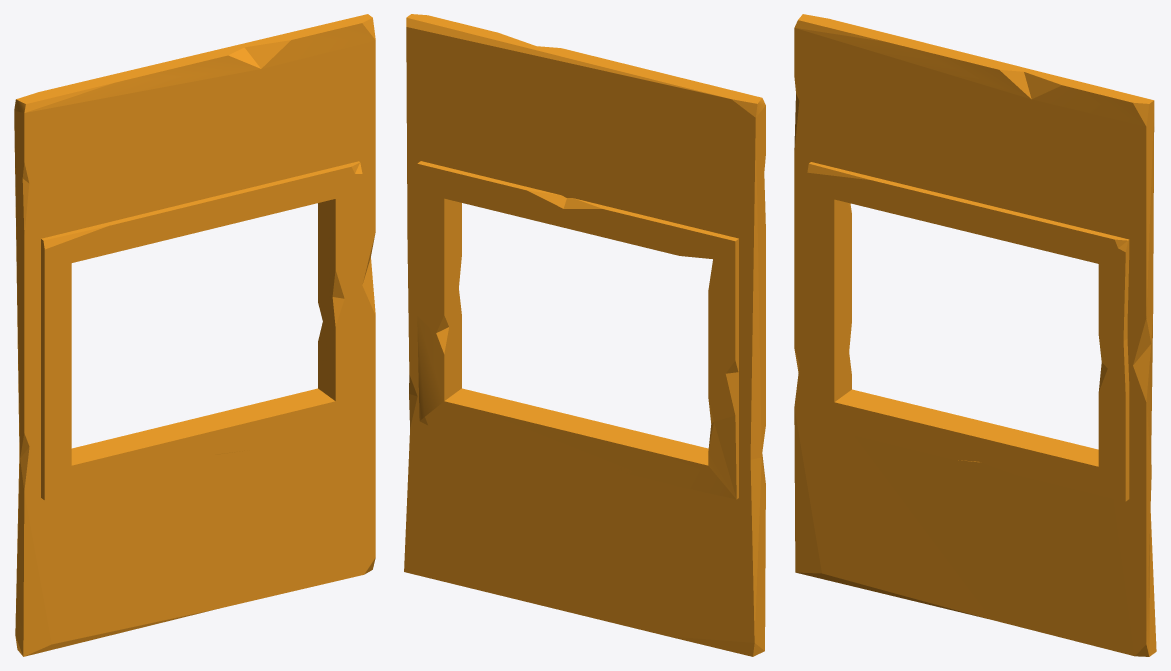
File: SM_Buildings_WallWindowDouble_2x3_01P.fbx
The picture shows the model from 3 angles, left to right: view 1: azimuth 30°, elevation 25°; view 2: azimuth 150°, elevation 25°; view 3: azimuth 330°, elevation 25°; orthographic projection.
Parts seen in each view (by area): view 1: SM_Buildings_WallWindowDouble_2x3_01P; view 2: SM_Buildings_WallWindowDouble_2x3_01P; view 3: SM_Buildings_WallWindowDouble_2x3_01P.
Part boxes in pixels (x1,y1,x2,y2): SM_Buildings_WallWindowDouble_2x3_01P: (14, 14, 375, 656); SM_Buildings_WallWindowDouble_2x3_01P: (404, 14, 765, 656); SM_Buildings_WallWindowDouble_2x3_01P: (794, 14, 1156, 656).
Bounding box in the file's own units: 200 × 300 × 17.29.
